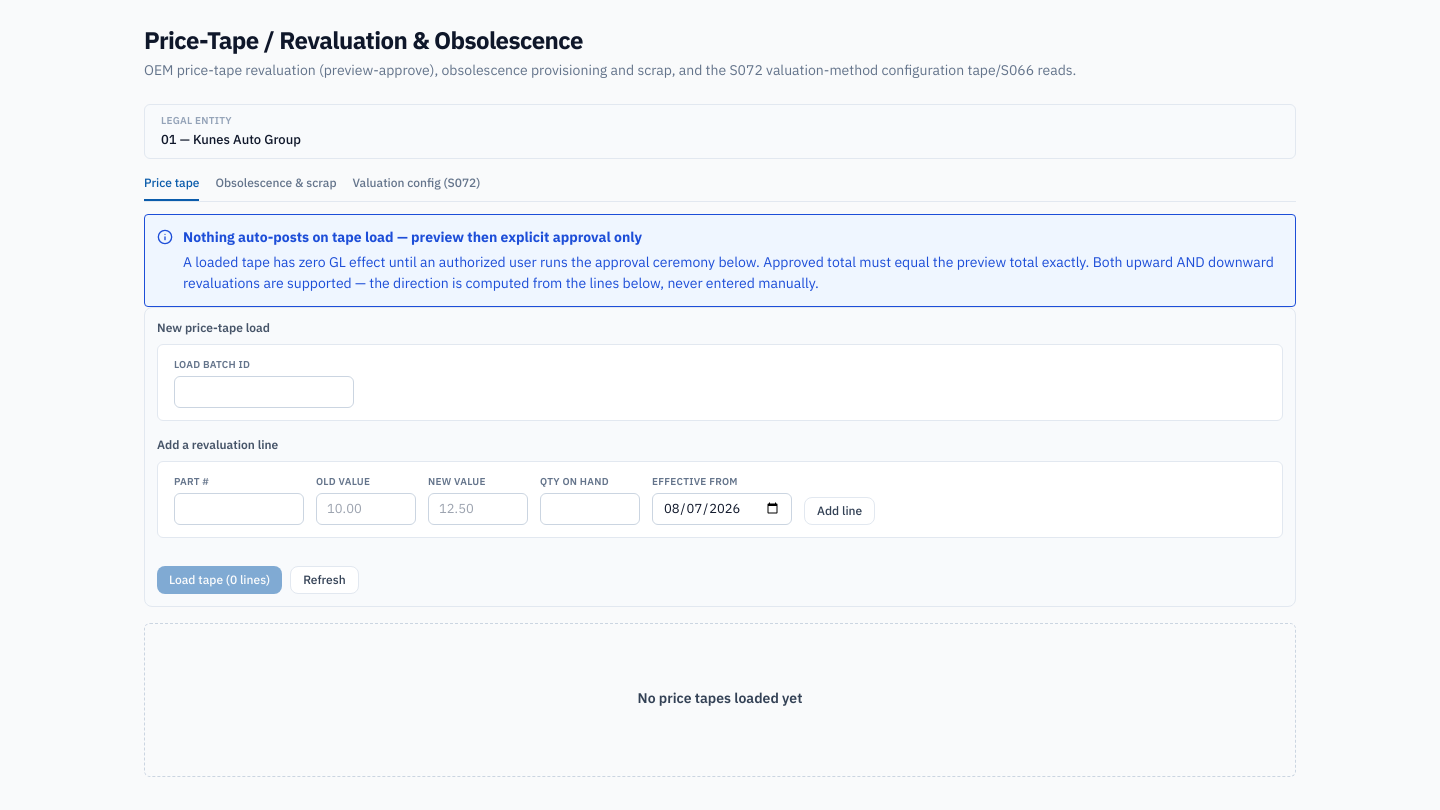
Test: PartsValuation › price-tape: approving posts and the preview-equals-approved proof element renders an exact match
What coordinates should you click on to do the following:
click the button with test id "pricetape-refresh"
I would click on:
 (324, 580)
Its box is [290,566,359,594].
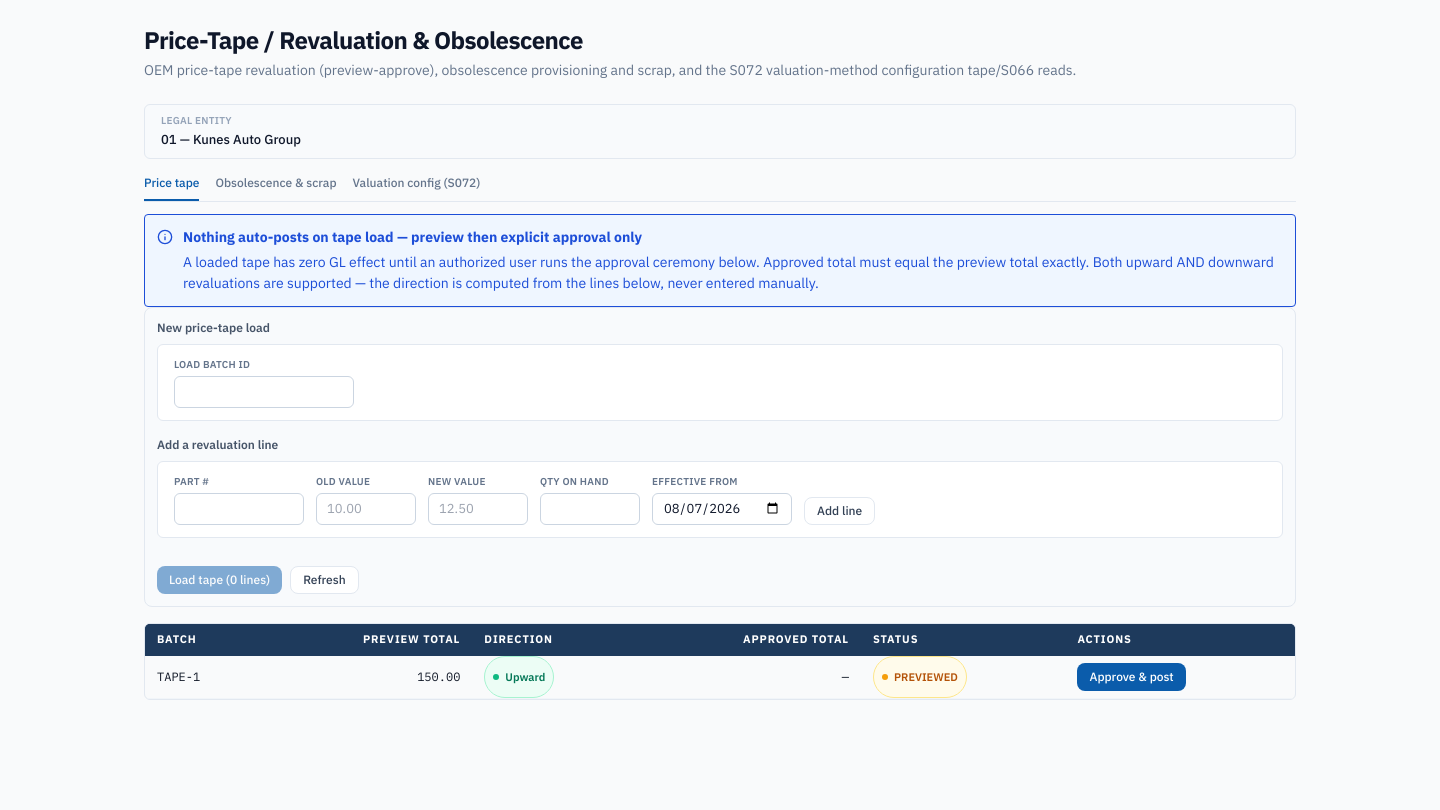
Check: the table with test id "pricetape-table" is shown, box [145,624,1295,698]
What coordinates should you click on to do the following:
click the button with test id "pricetape-approve-TAPE-1"
I would click on:
 (1132, 676)
Its box is [1078,662,1186,690].
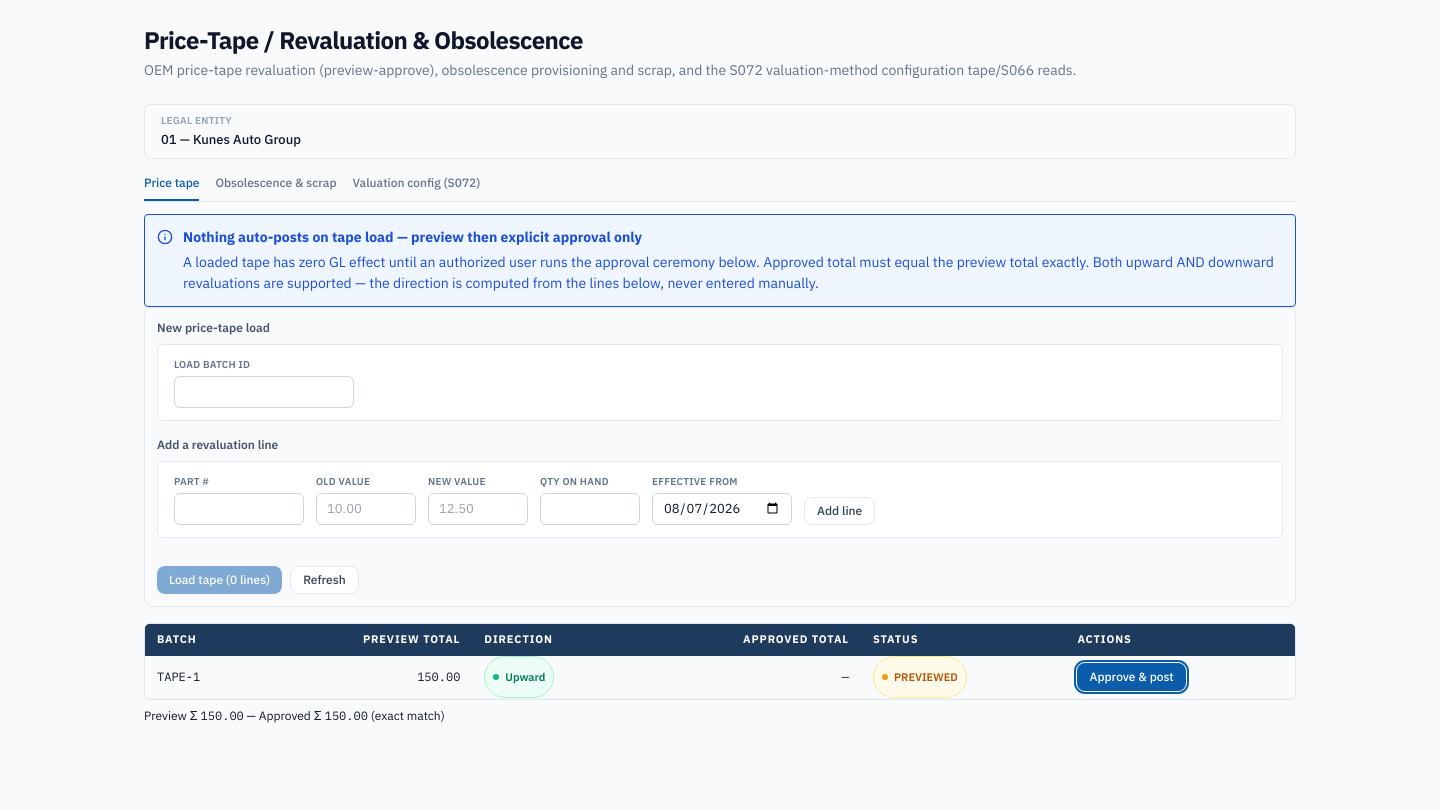
Check: the element with test id "pricetape-preview-equals-approved-proof" shows "(exact match)", box [371,708,445,722]
